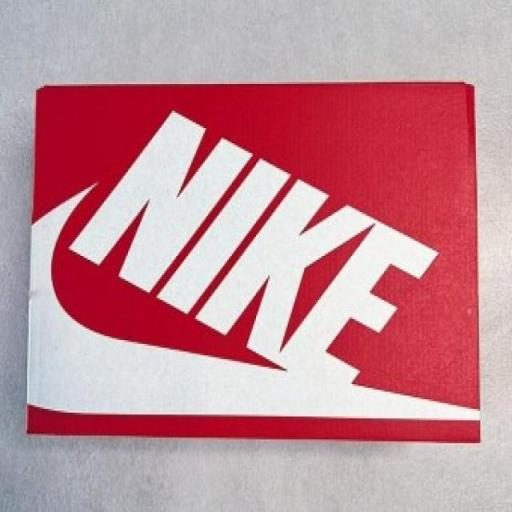Nike: (74, 108, 438, 390)
